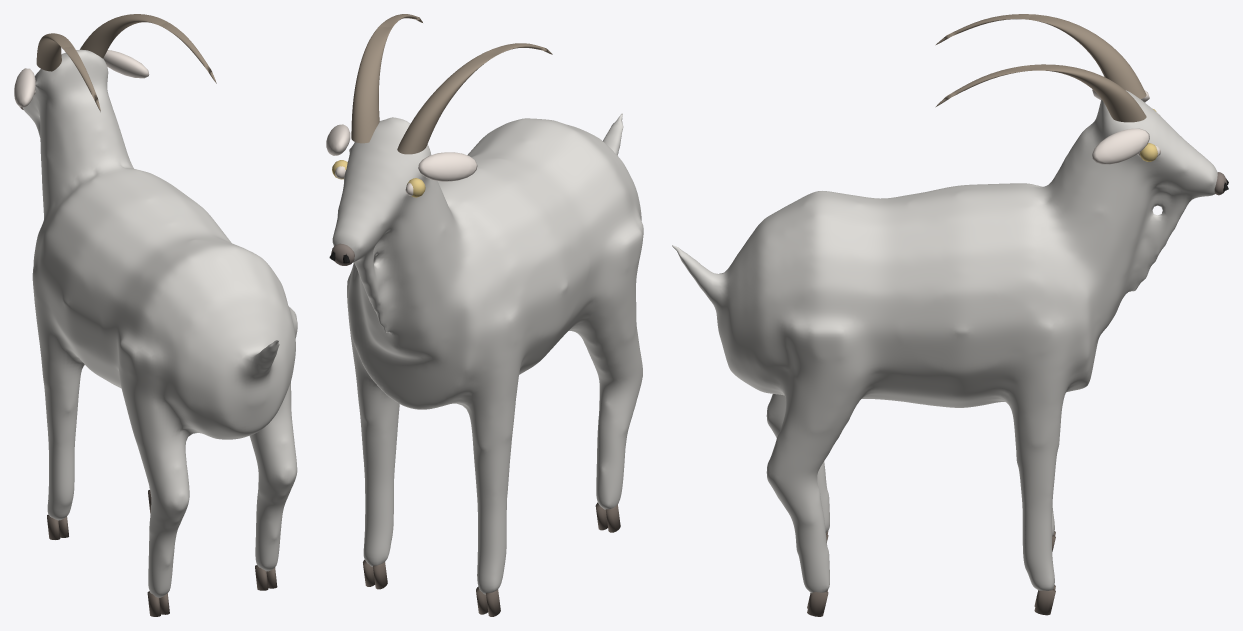
Rendered from goat.glb.
3 views of the same model, side by side, from view 1: azimuth 30°, elevation 25°; view 2: azimuth 150°, elevation 25°; view 3: azimuth 270°, elevation 25° (orthographic). The views are drawn at different scales.
Parts seen in each view (by area): view 1: Goat_Fleece_Sculpt, Horn_R, Horn_L, Ear_R, Ear_L; view 2: Goat_Fleece_Sculpt, Horn_R, Horn_L, Ear_L, Ear_R; view 3: Goat_Fleece_Sculpt, Horn_L, Horn_R, Ear_R.
Part boxes in pixels (box(x1,y1,x2,y2)): Goat_Fleece_Sculpt: box(22, 49, 297, 597); Horn_R: box(80, 14, 216, 83); Horn_L: box(36, 33, 100, 111); Ear_R: box(103, 50, 149, 78); Ear_L: box(14, 68, 35, 107); Goat_Fleece_Sculpt: box(332, 113, 643, 594); Horn_R: box(351, 14, 422, 143); Horn_L: box(397, 43, 552, 154); Ear_L: box(418, 152, 477, 181); Ear_R: box(326, 124, 350, 155); Goat_Fleece_Sculpt: box(672, 90, 1217, 593); Horn_L: box(935, 14, 1146, 98); Horn_R: box(935, 64, 1146, 122); Ear_R: box(1092, 128, 1149, 164).
Size of the model in its own units: 0.5238 by 1.5 by 1.4.
